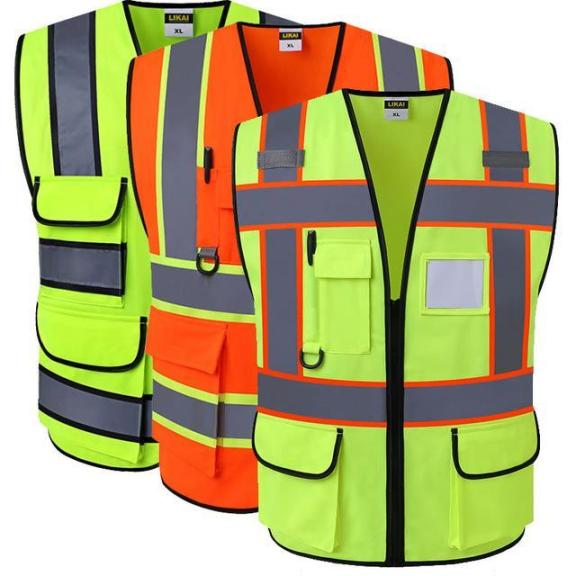safety_vest: (128, 23, 454, 513), (230, 86, 557, 566), (13, 0, 296, 474)
